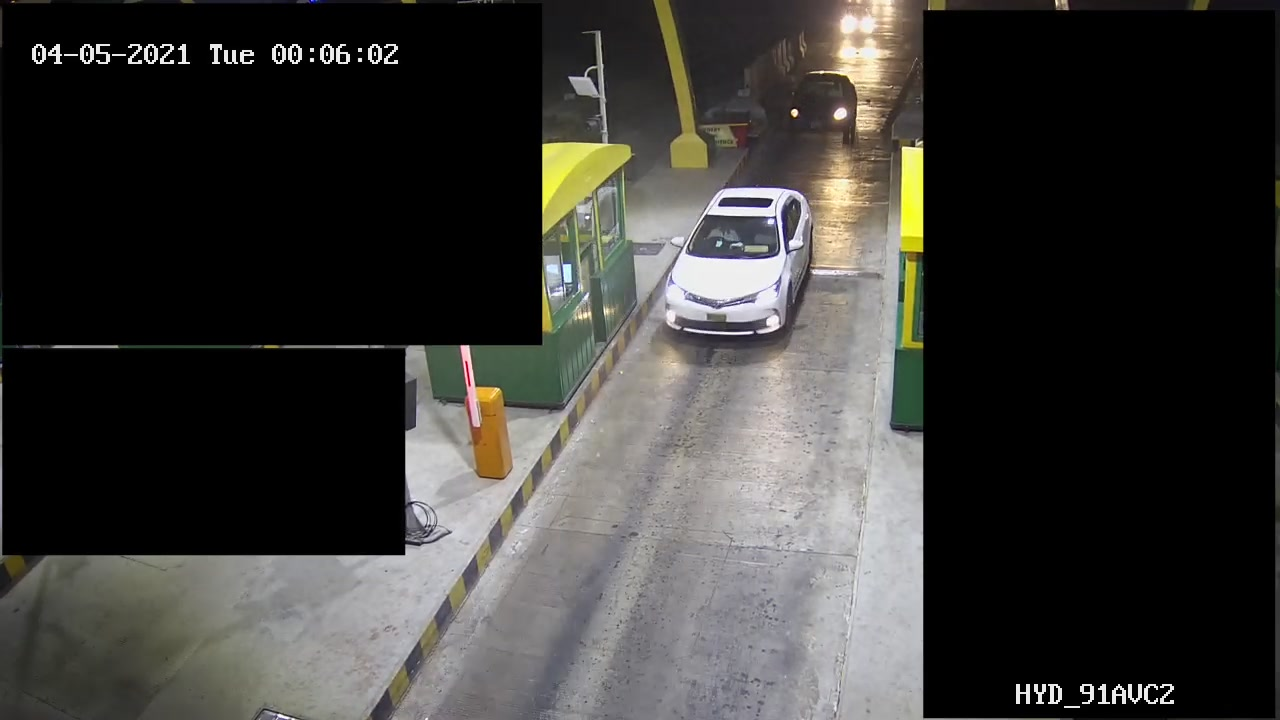F1: (648, 172, 830, 360)
